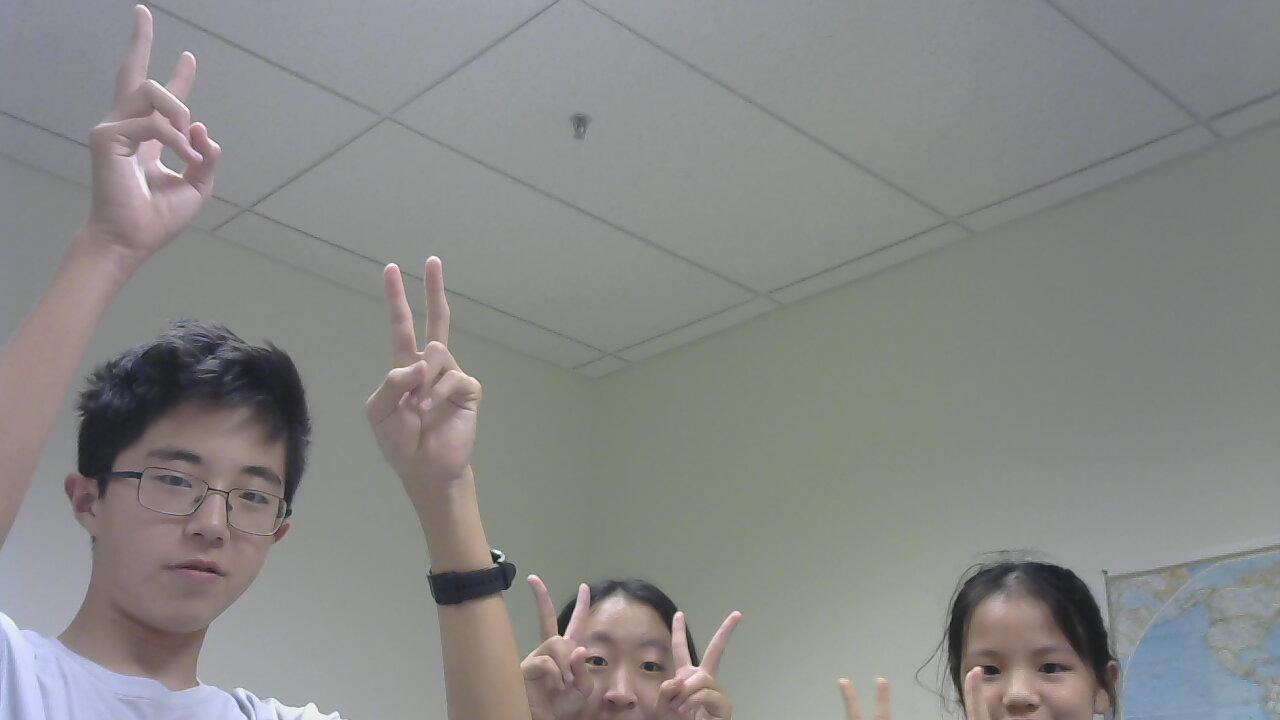peace: (78, 0, 229, 273), (371, 239, 517, 498), (516, 549, 599, 719), (661, 607, 747, 720), (821, 672, 909, 716)
